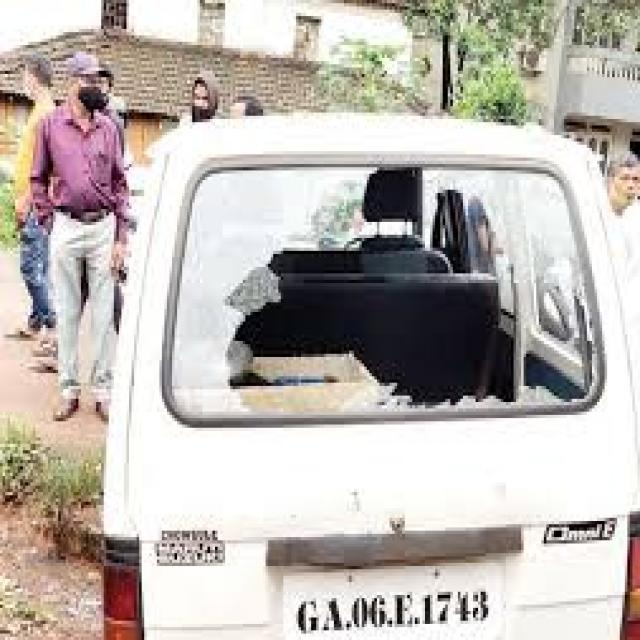minor: (190, 171, 590, 425)
